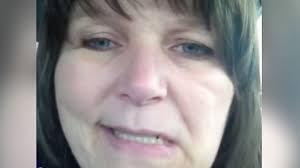strokeMouthMid: (91, 116, 186, 160)
